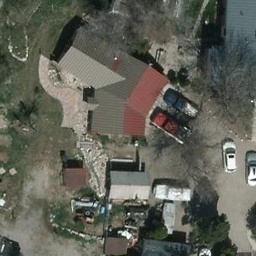car: (152, 112, 191, 144), (164, 88, 198, 122), (222, 138, 238, 171), (247, 152, 256, 182)
